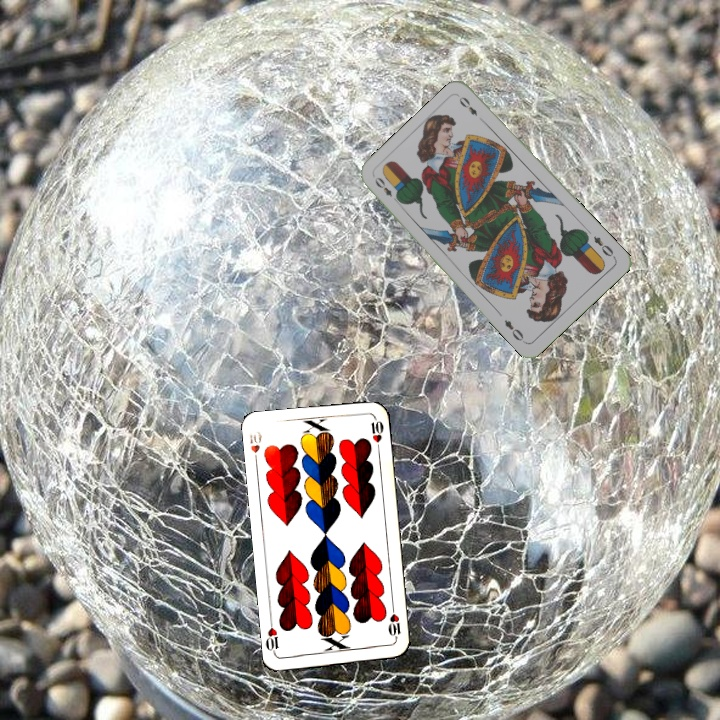EO: (370, 173, 402, 206), (589, 232, 618, 261)
H10: (384, 603, 403, 644), (245, 427, 264, 467)
